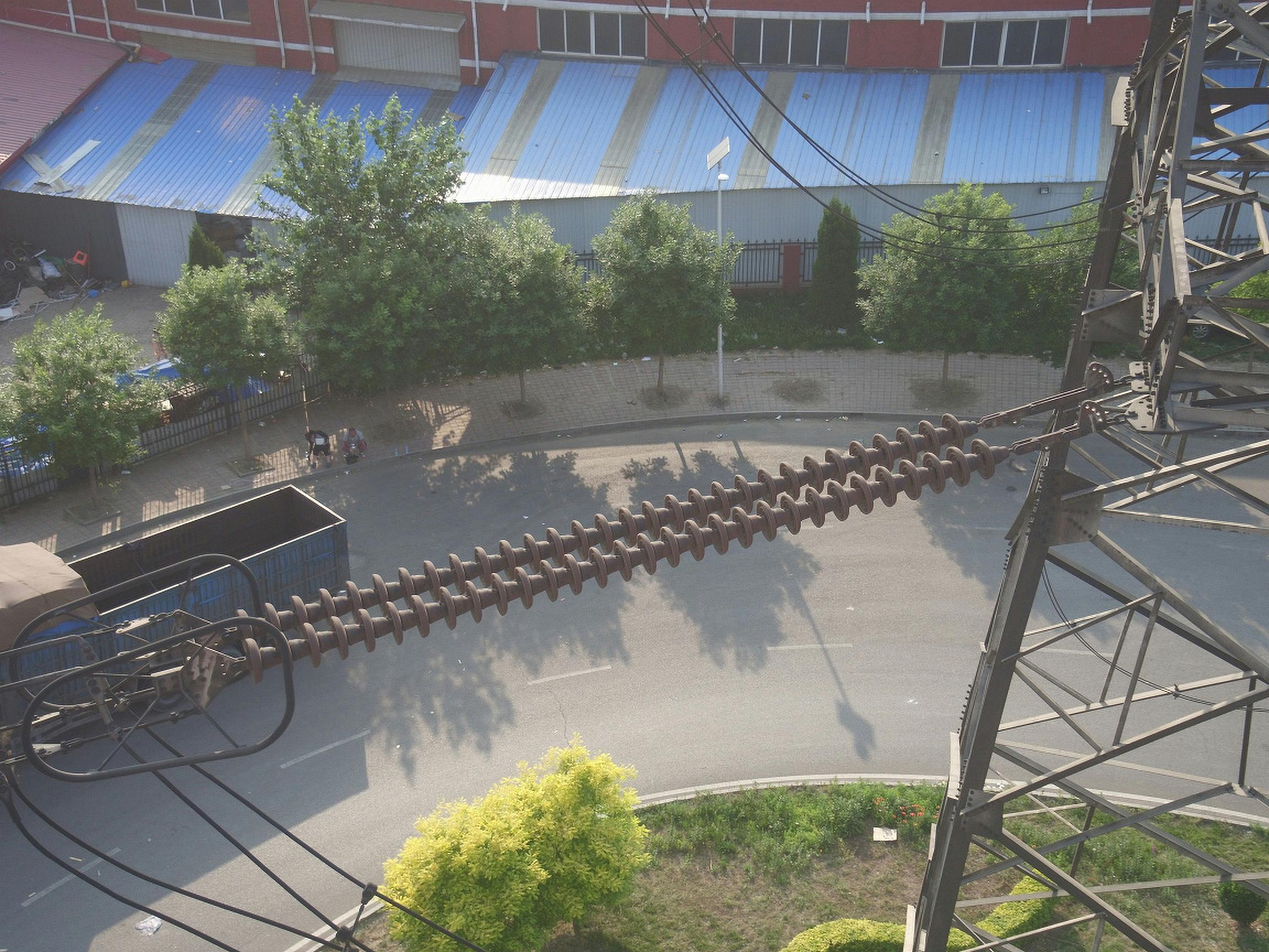insulator: (228, 408, 1002, 687)
